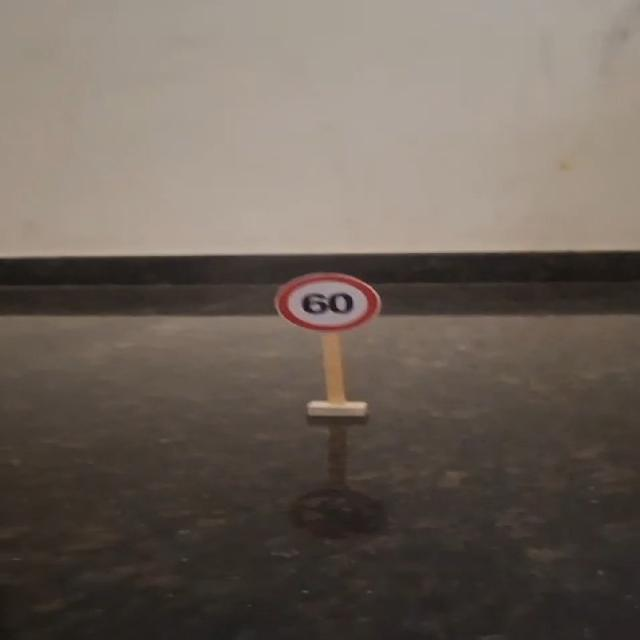Speed60: (264, 268, 388, 338)
